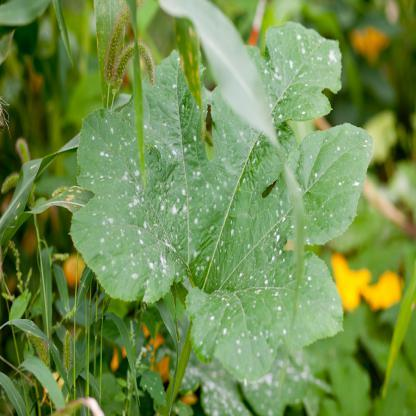Squash Powdery mildew leaf: (181, 259, 350, 366), (69, 186, 187, 304), (128, 43, 209, 202), (283, 114, 374, 244), (207, 78, 285, 196), (262, 25, 344, 127)
